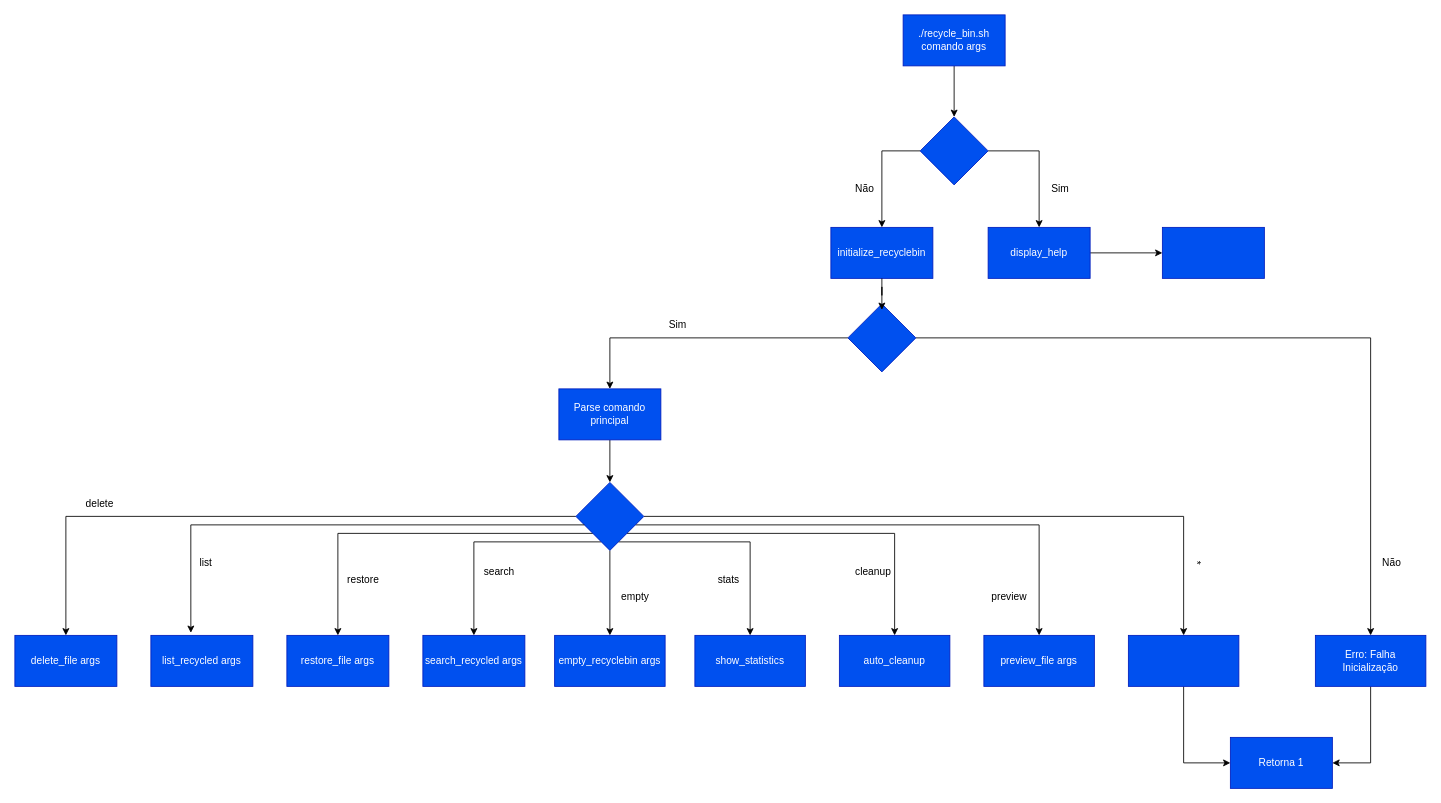
Some shapes in this 1441 by 803 pixel diagram are drawn without their labels. Each missing label, with the centre of its shape:
Case comando: point (609, 516)
Comando help?: point (953, 150)
Erro: Comando desconhecido: point (1183, 660)
Retorna 0: point (1213, 252)
Sucesso?: point (881, 337)
